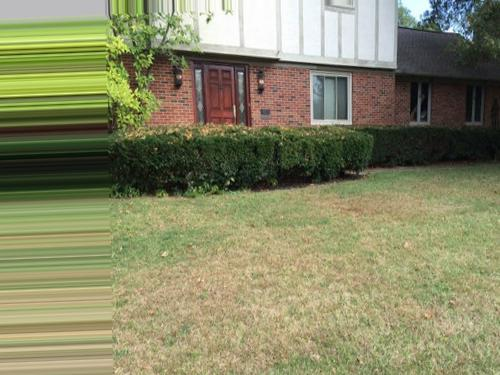patch: (171, 264, 275, 353), (123, 288, 173, 352), (280, 273, 309, 329), (274, 241, 318, 267)
